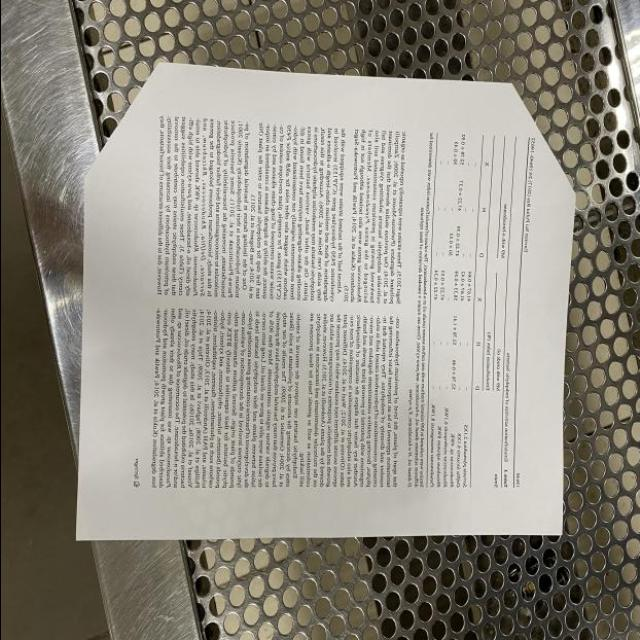kertas: (77, 62, 576, 550)
